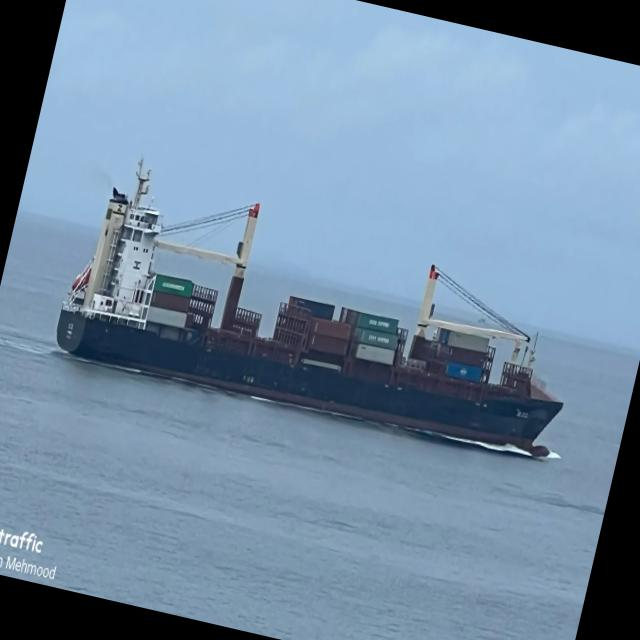Cargo: (55, 161, 562, 458), (400, 411, 404, 415)
